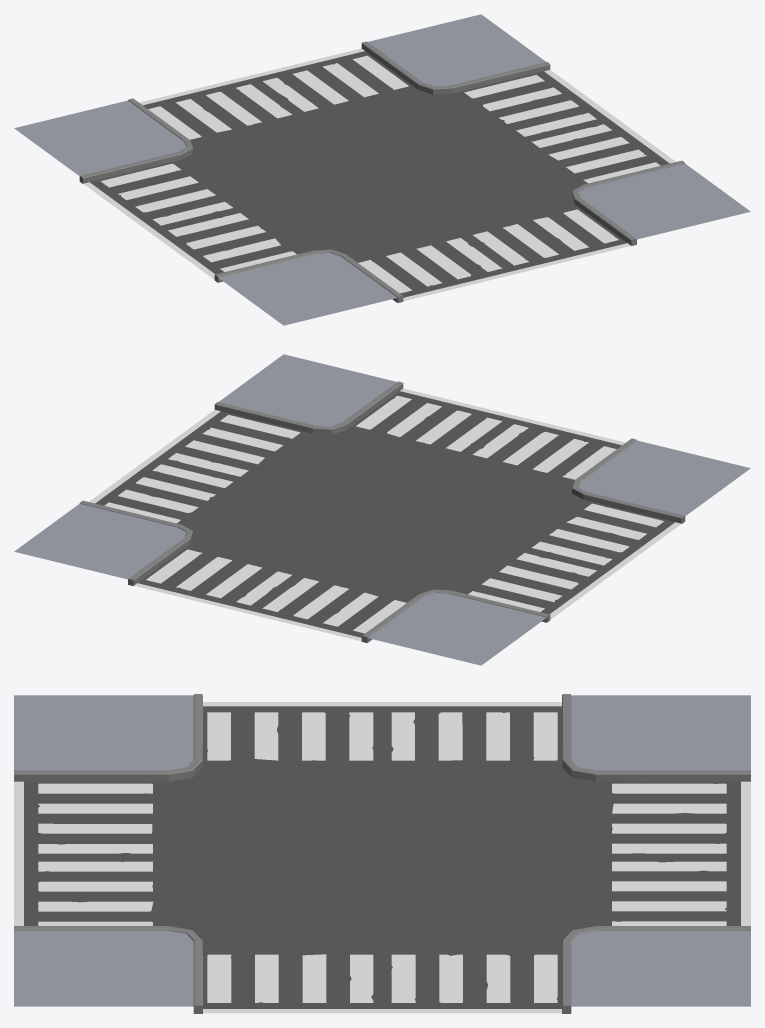
Rendered from Road_03.fbx.
3 renders of one model, top to bottom at view 1: azimuth 30°, elevation 25°; view 2: azimuth 150°, elevation 25°; view 3: azimuth 270°, elevation 25°, orthographic. The views are drawn at different scales.
Visible parts, largest first — view 1: Road_03; view 2: Road_03; view 3: Road_03.
Boxes of the visible parts, bbox=[...] form: Road_03: bbox=[14, 14, 750, 325]; Road_03: bbox=[14, 354, 750, 665]; Road_03: bbox=[14, 694, 750, 1013].
Bounding box in the file's own units: 1200 × 15 × 1200.
